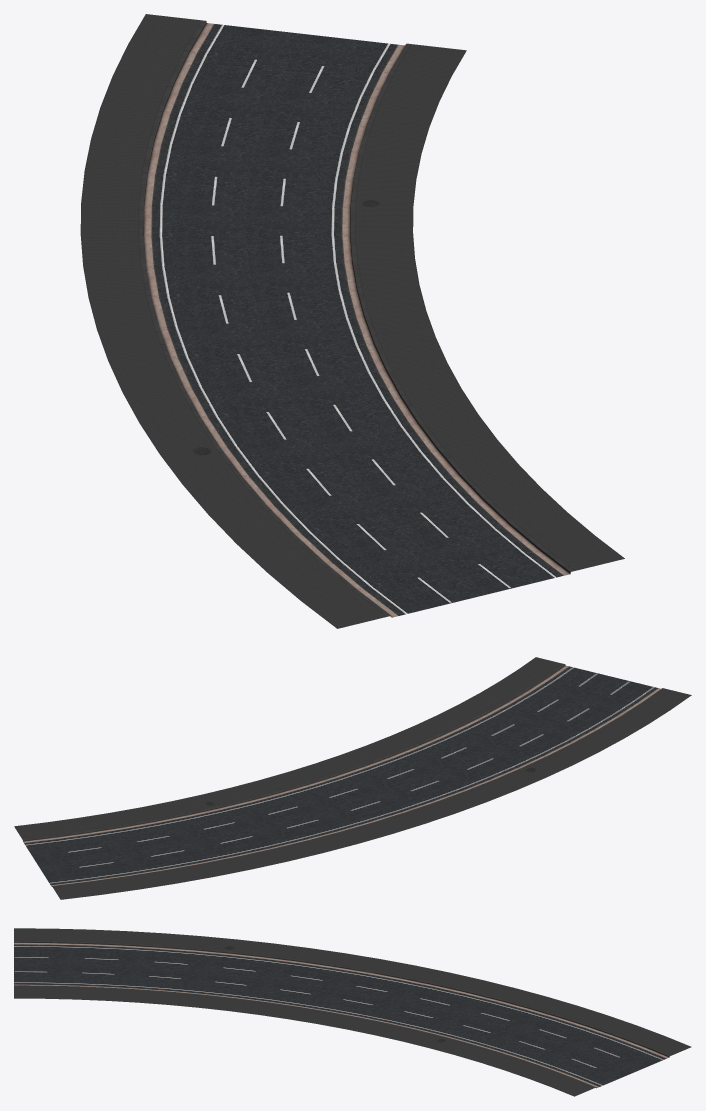
The model's file is or_city_road_3ways_45right.fbx.
The picture shows the model from 3 angles, top to bottom: view 1: azimuth 30°, elevation 25°; view 2: azimuth 150°, elevation 25°; view 3: azimuth 270°, elevation 25°; orthographic projection. The views are drawn at different scales.
Visible parts, largest first — view 1: obj0; view 2: obj0; view 3: obj0.
Boxes of the visible parts, box(x1,y1,x2,y2) form: obj0: box(80, 14, 624, 628); obj0: box(14, 657, 691, 899); obj0: box(14, 928, 691, 1096).
Bounding box in the file's own units: 88.27 × 0.254 × 150.
